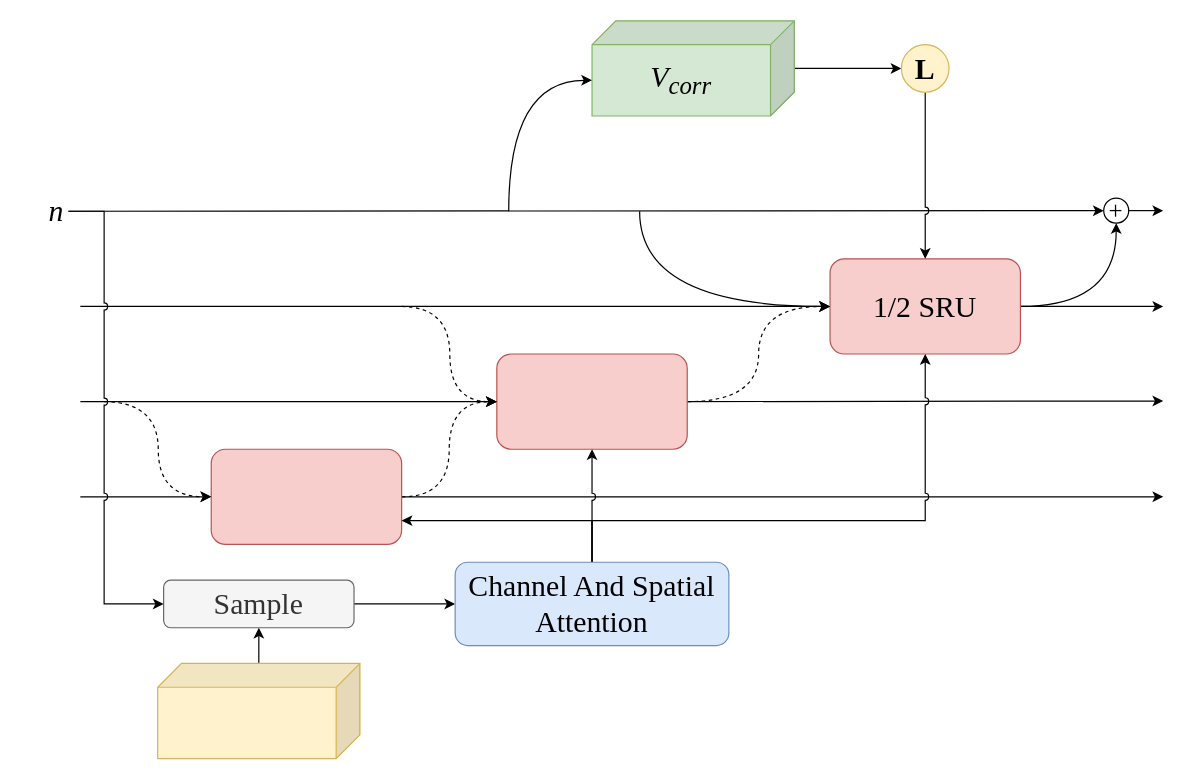
This 1194x779 diagram has some shape labels left out. The box of each missing label's shape, as (x1, y1, x2, y2) in pixels:
1/4 SRU: (496, 353, 687, 449)
1/8 SRU: (210, 448, 402, 544)
V ctx: (156, 662, 360, 759)
